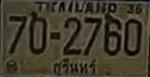0: (123, 18, 141, 54), (29, 17, 47, 53)
2: (64, 16, 80, 54)
6: (103, 16, 121, 55)
7: (84, 16, 102, 55), (8, 15, 26, 53)
SRN: (52, 57, 99, 76)
